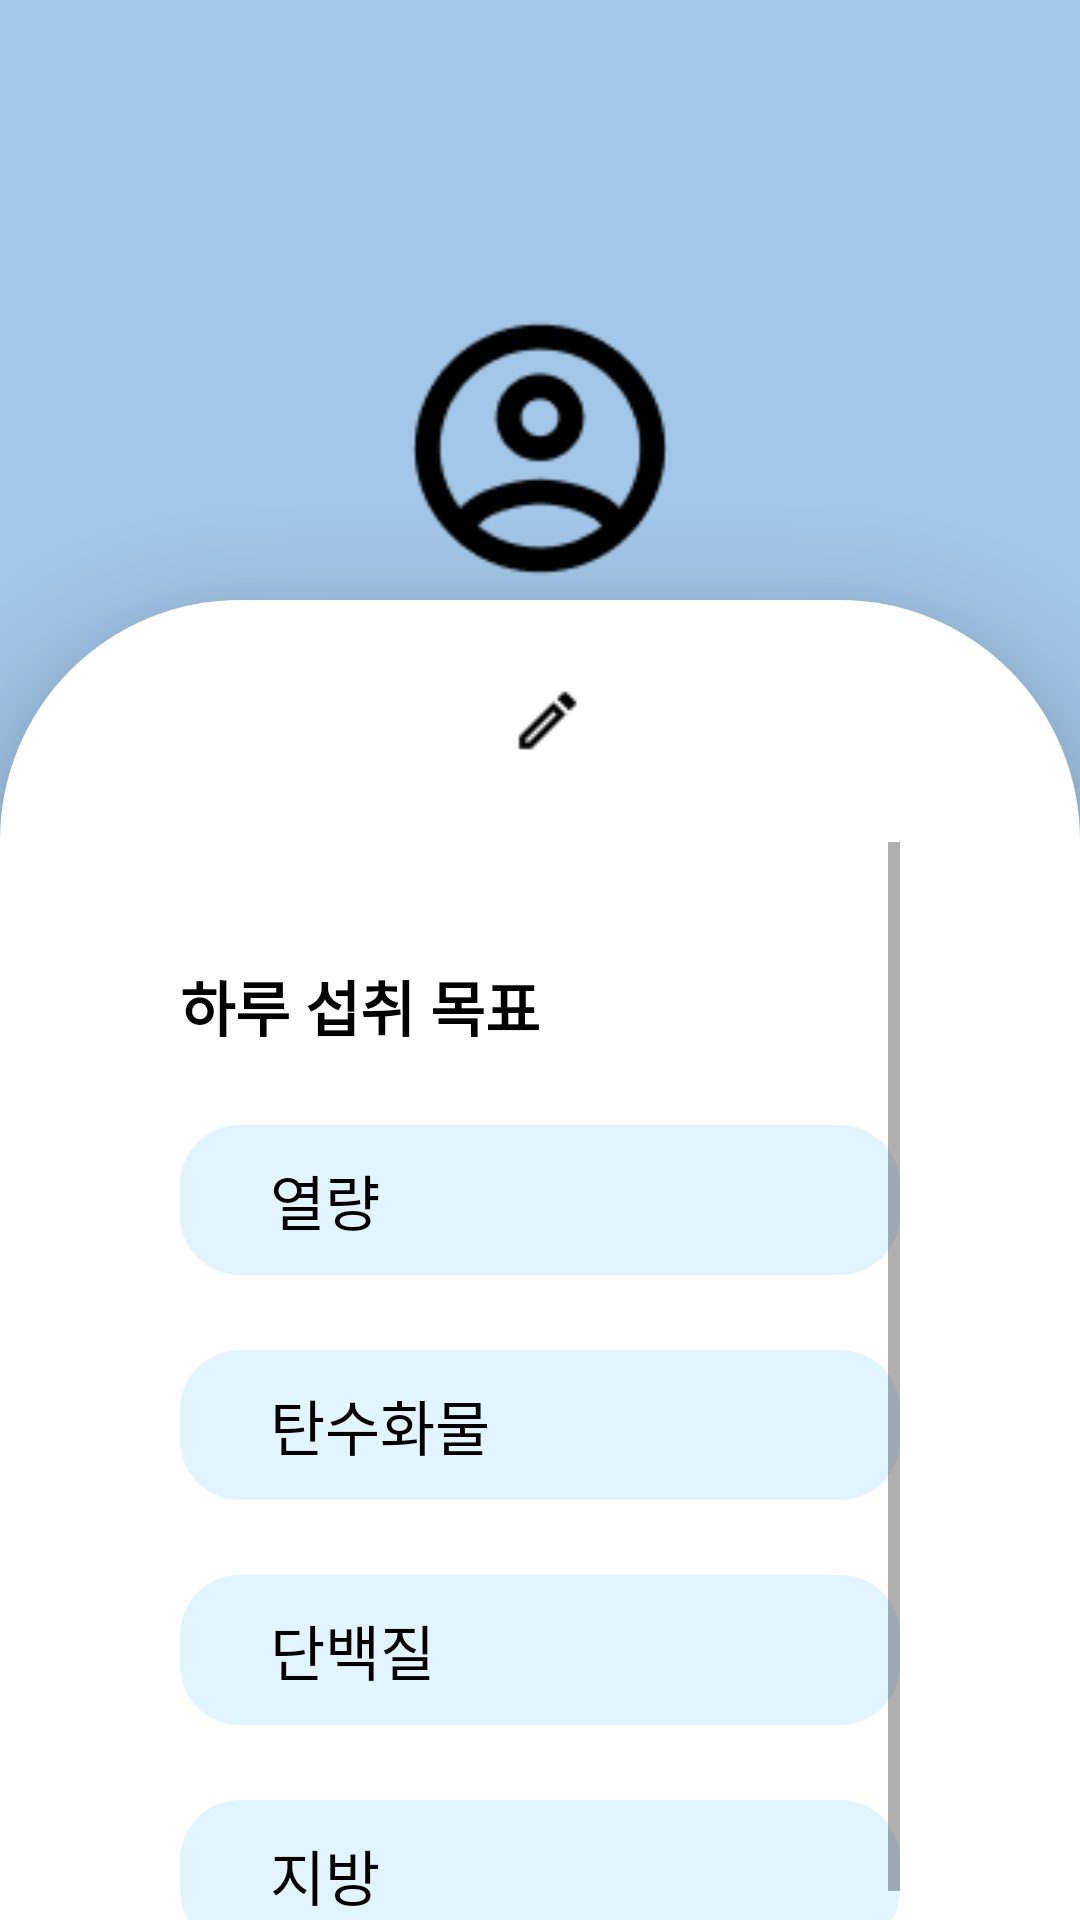

Locate icon controls on the screen. Image size 1080×1920, boxes as [left=x1, top=y1, right=x2, bottom=y2].
account circle: [left=413, top=323, right=667, bottom=575]
edit: [left=518, top=691, right=577, bottom=750]
